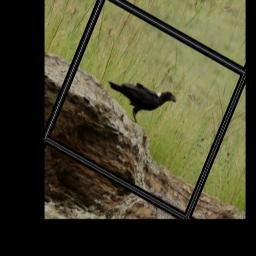Crow: (99, 61, 179, 138)
